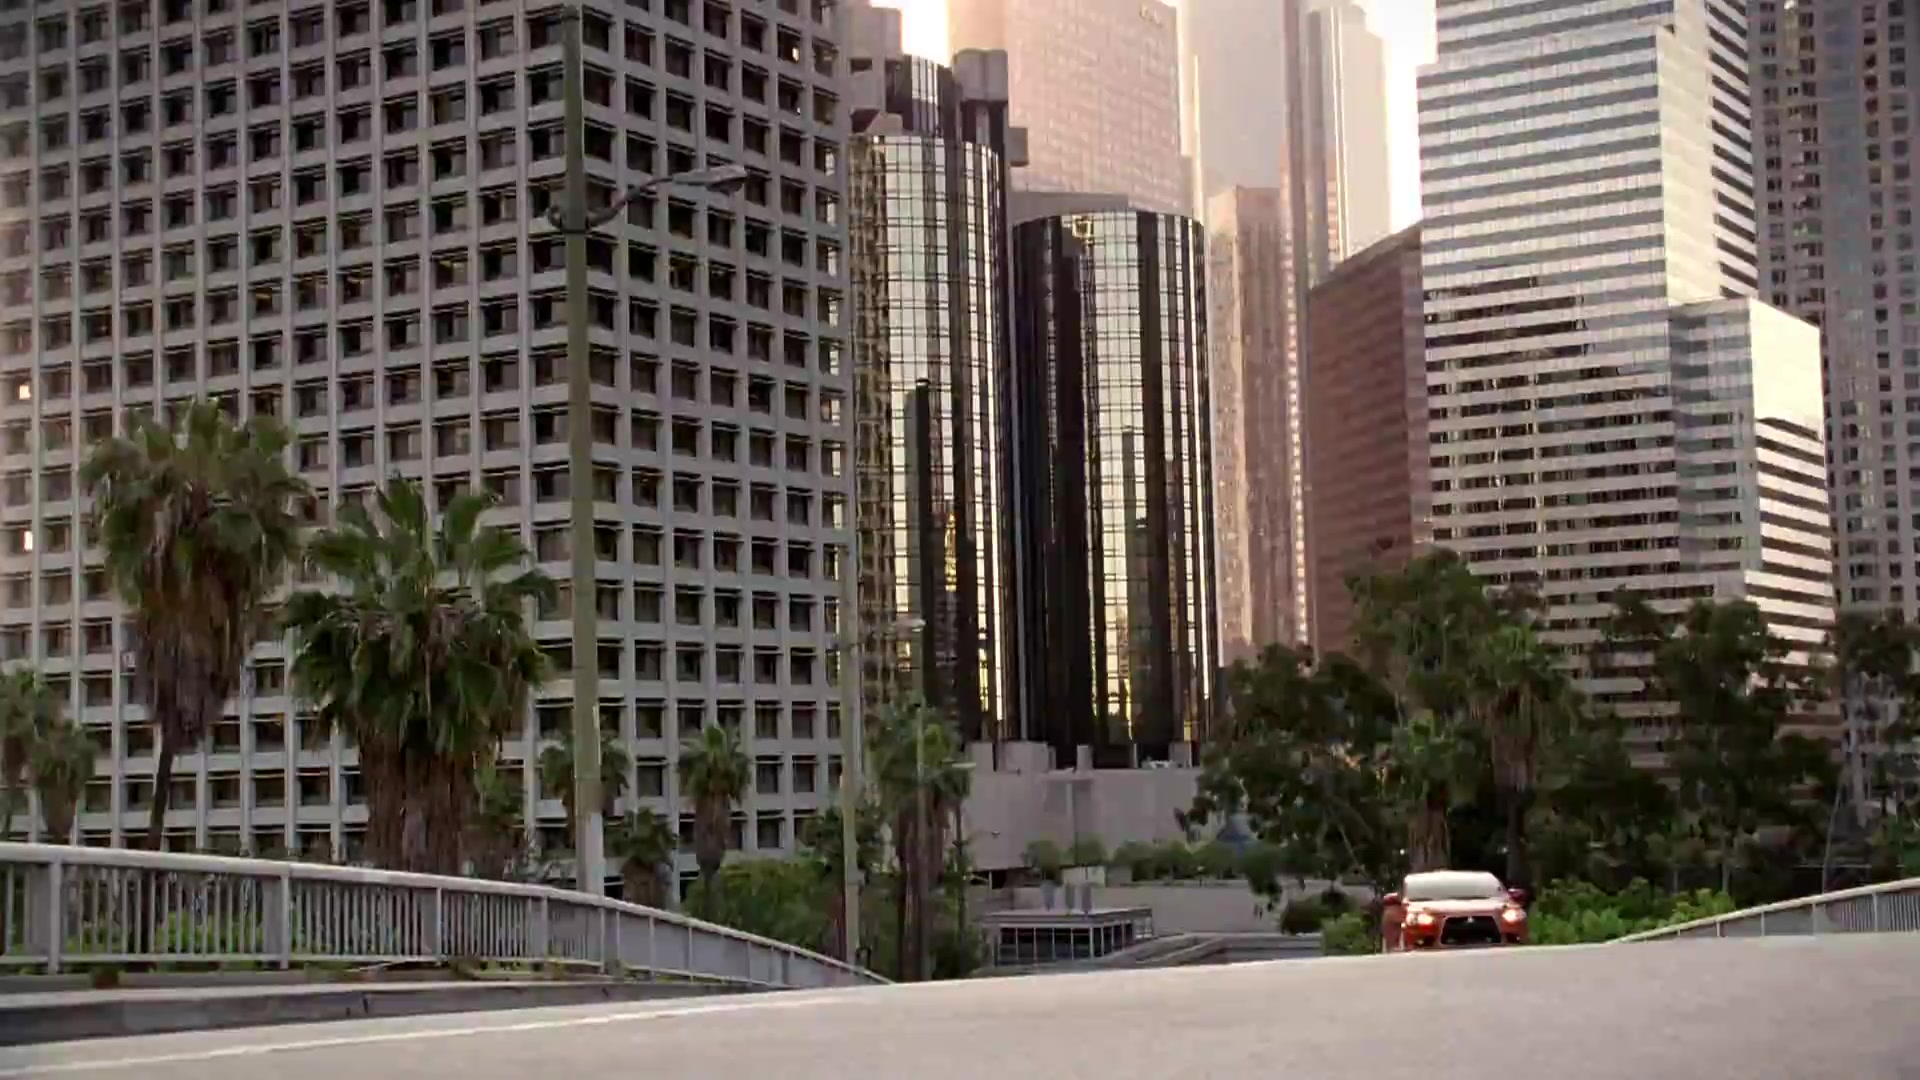car: (1374, 868, 1538, 952)
